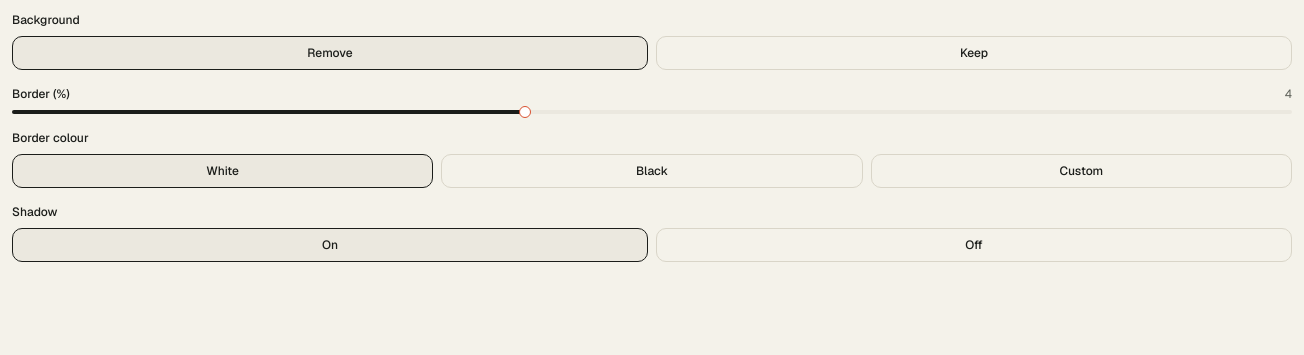
Test: StickerOptions › reveals a colour field for a custom border without changing it yet
Click the button "Custom".
click(1081, 171)  # box [871, 154, 1292, 188]
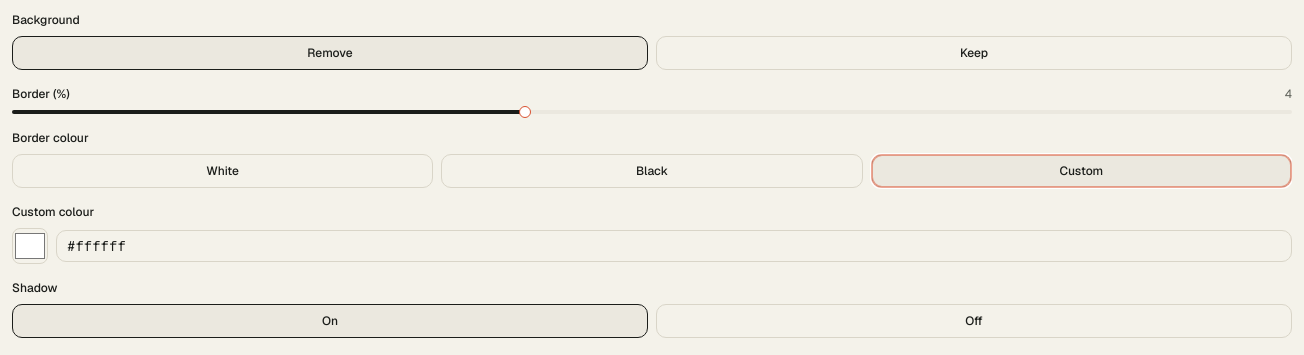
expect the text "Custom colour" is shown: met, box [12, 204, 94, 220]
